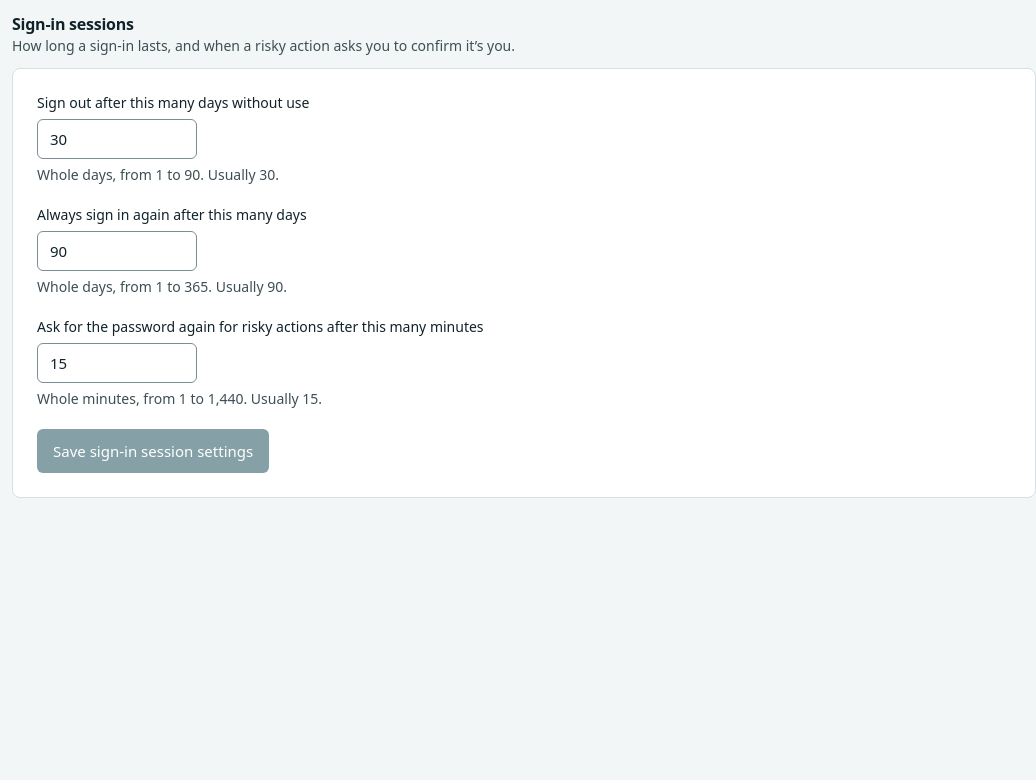
Test case: sign-in sessions card › shows the gateway's message for a refused number and keeps what was typed
Replace the text in the number field labelled "Sign out after this many days without use" with "120" at (117, 139), box [37,119,197,159]
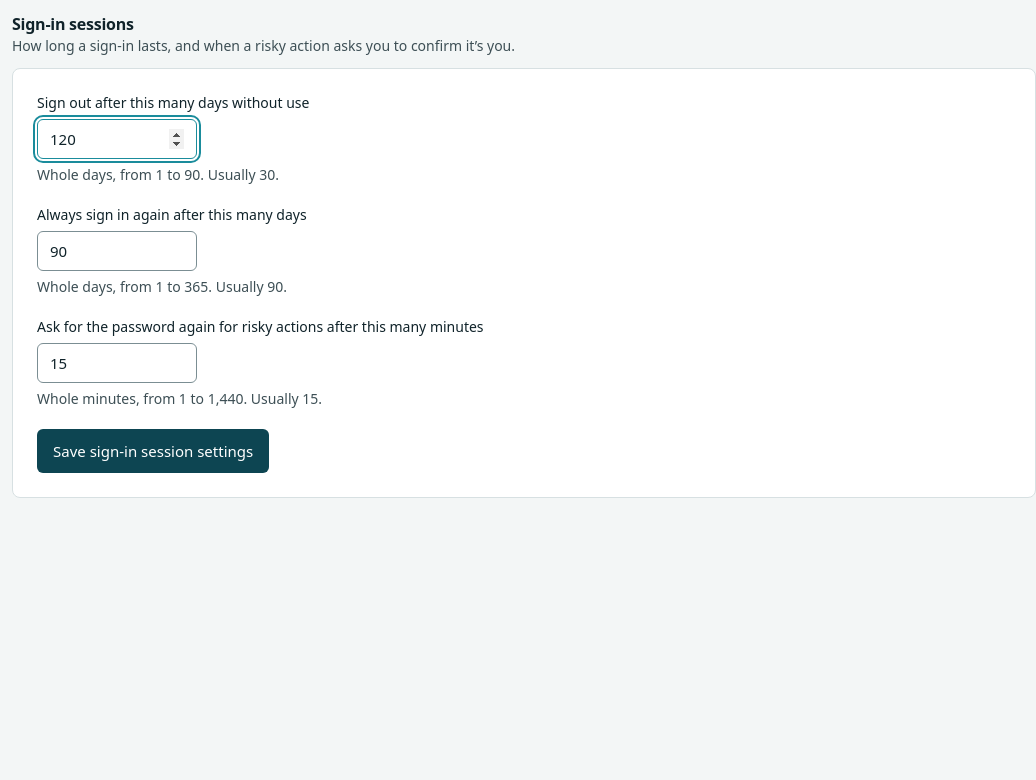
Click the button "Save sign-in session settings".
click(153, 451)  # box [37,429,269,473]
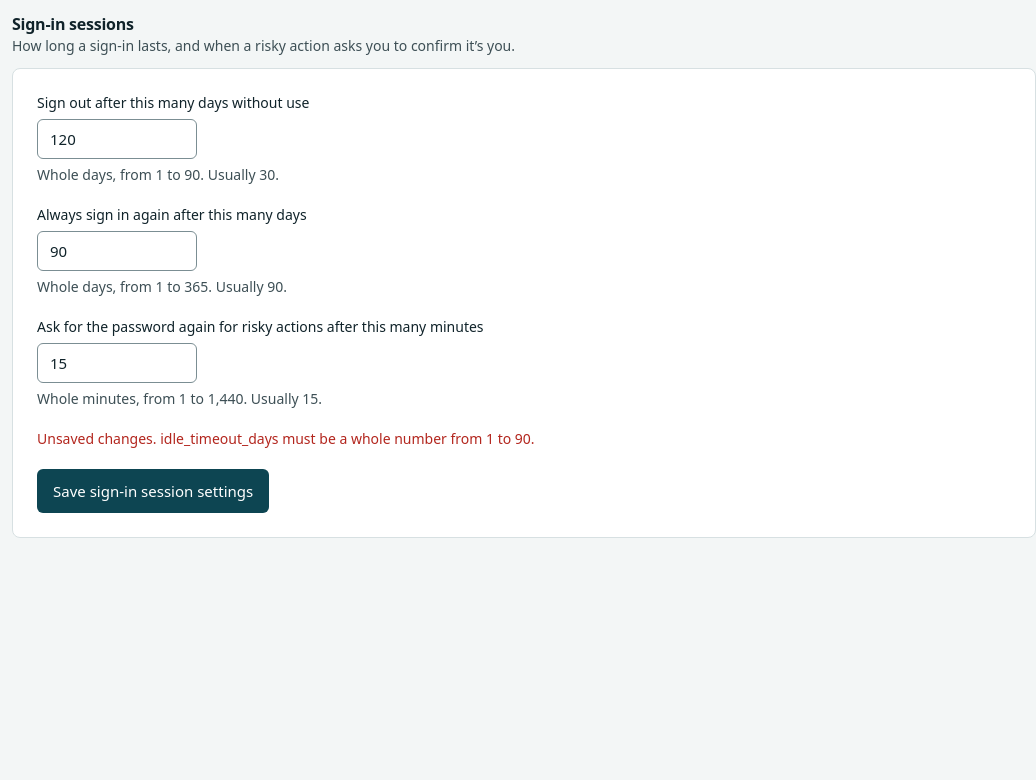
Expected: the message reads "Unsaved changes. idle_timeout_days must be a whole number from 1 to 90.", [37,429,535,448]
